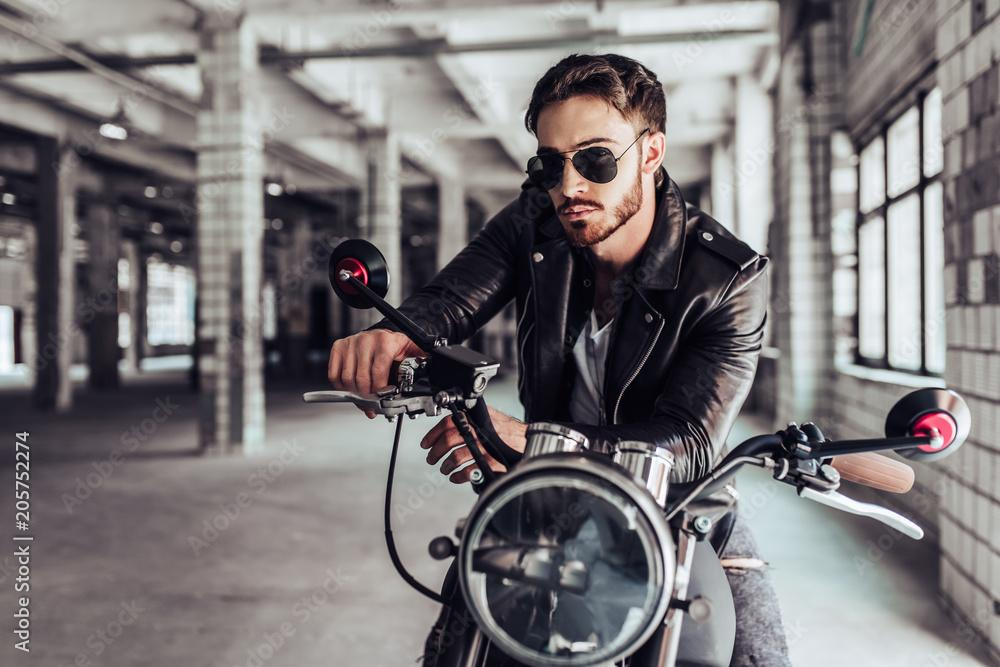helmet: (523, 51, 668, 249)
